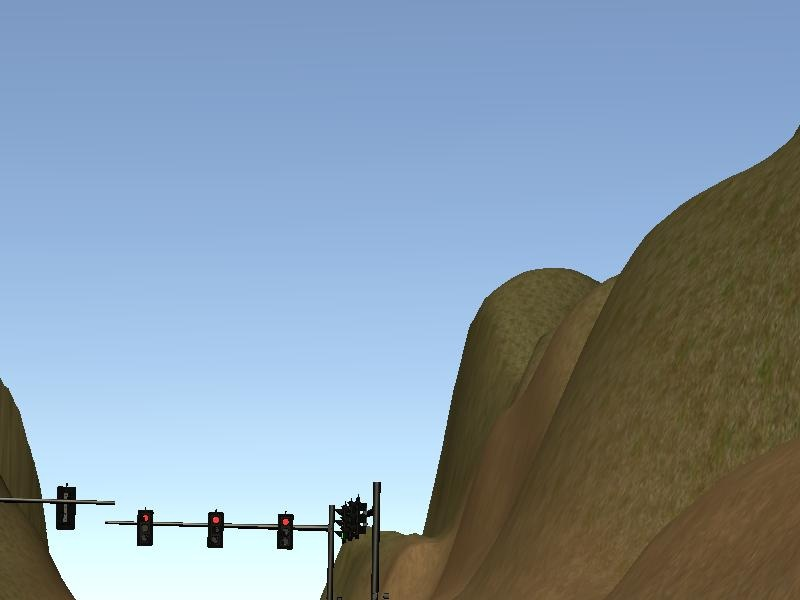traffic_light_red: (124, 509, 321, 550)
